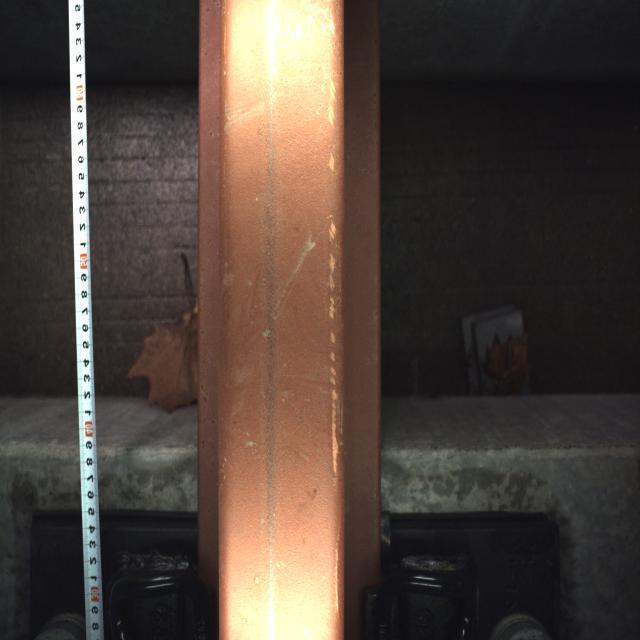scar: (220, 25, 342, 596)
